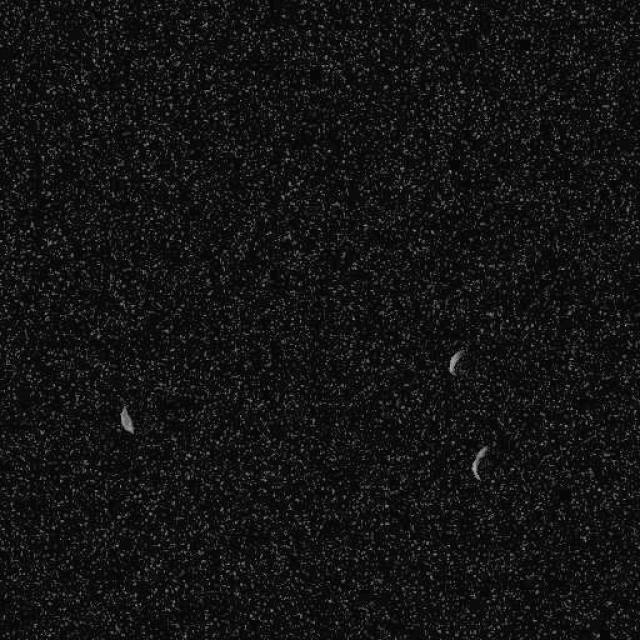D2: (469, 444, 489, 481), (446, 348, 465, 377), (118, 404, 134, 434)
